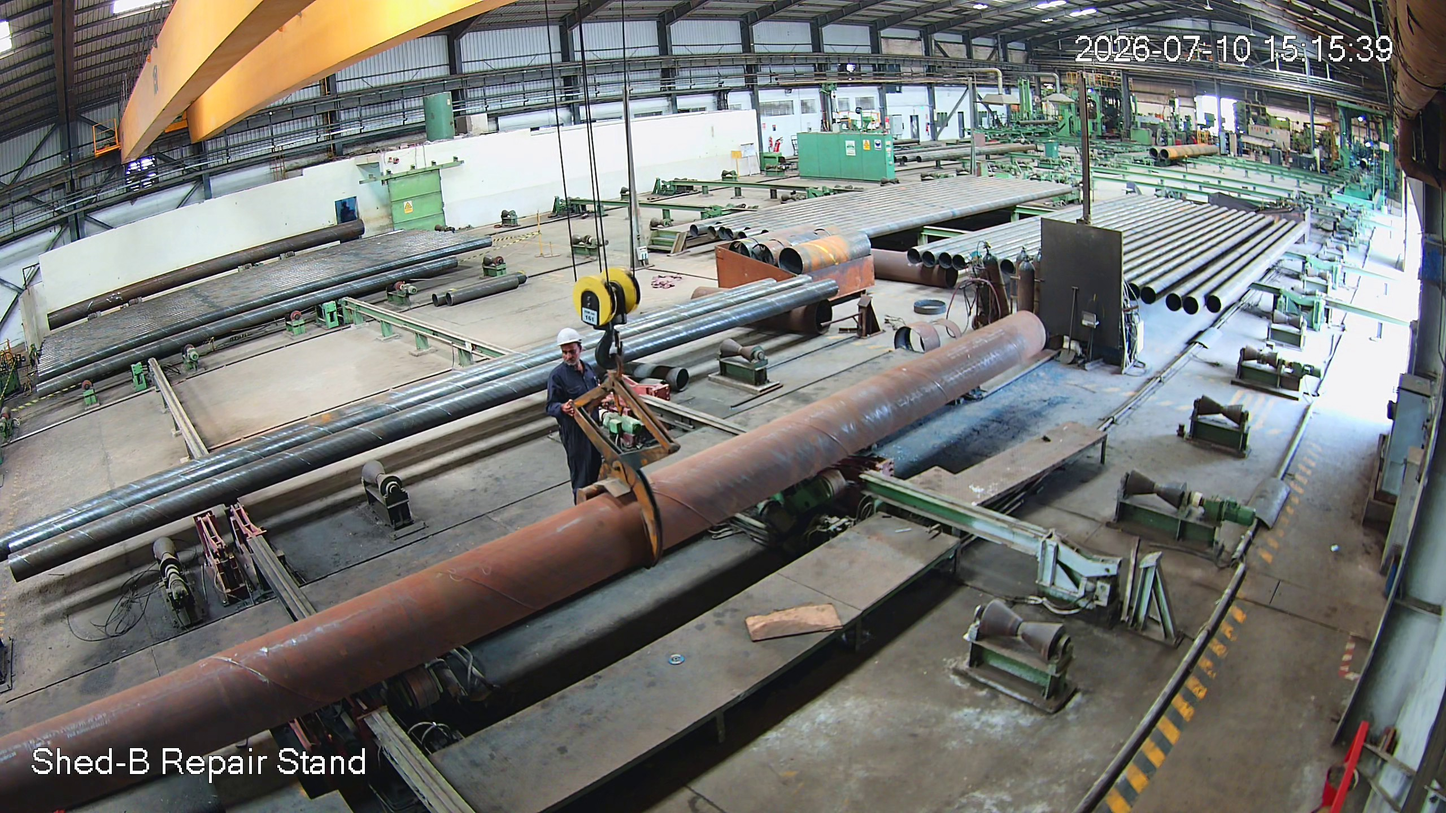Helmet: (555, 326, 593, 376)
Person: (542, 329, 627, 496)
